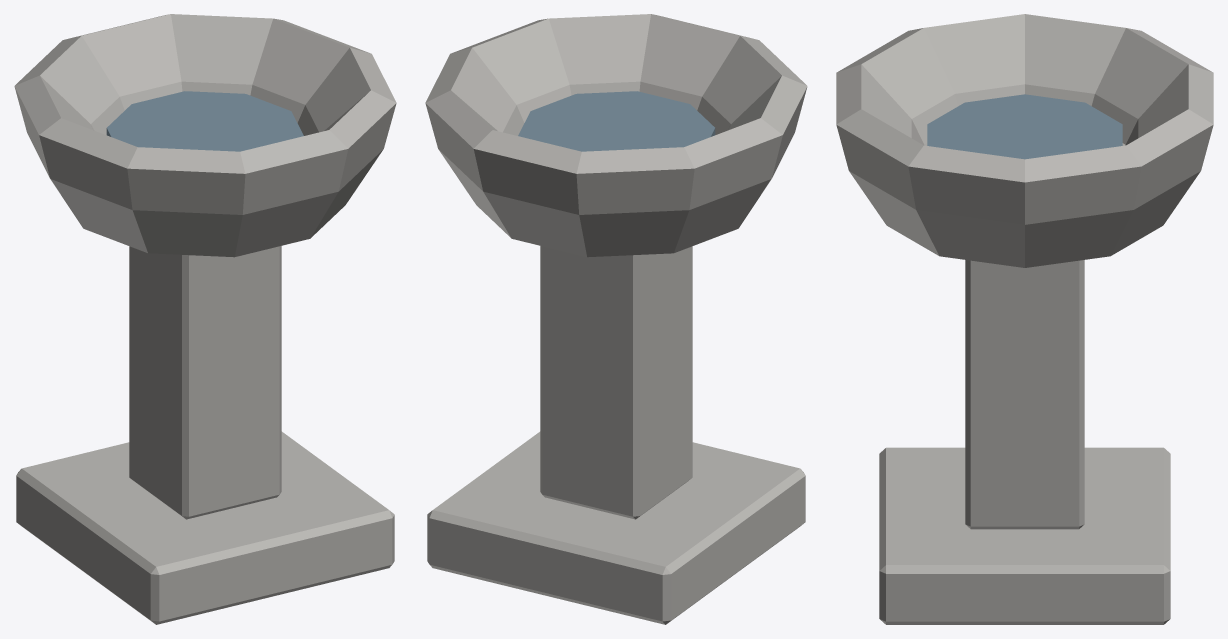
The model's file is prop-birdbath-stone.fbx.
3 renders of one model, left to right at view 1: azimuth 30°, elevation 25°; view 2: azimuth 150°, elevation 25°; view 3: azimuth 270°, elevation 25°, orthographic. The views are drawn at different scales.
Visible parts, largest first — view 1: prop-birdbath-stone; view 2: prop-birdbath-stone; view 3: prop-birdbath-stone.
Boxes of the visible parts, x1,y1,x2,y2 form: prop-birdbath-stone: (14, 14, 396, 624); prop-birdbath-stone: (425, 14, 807, 624); prop-birdbath-stone: (836, 14, 1213, 624).
Bounding box in the file's own units: 0.6 × 0.8 × 0.5706.
